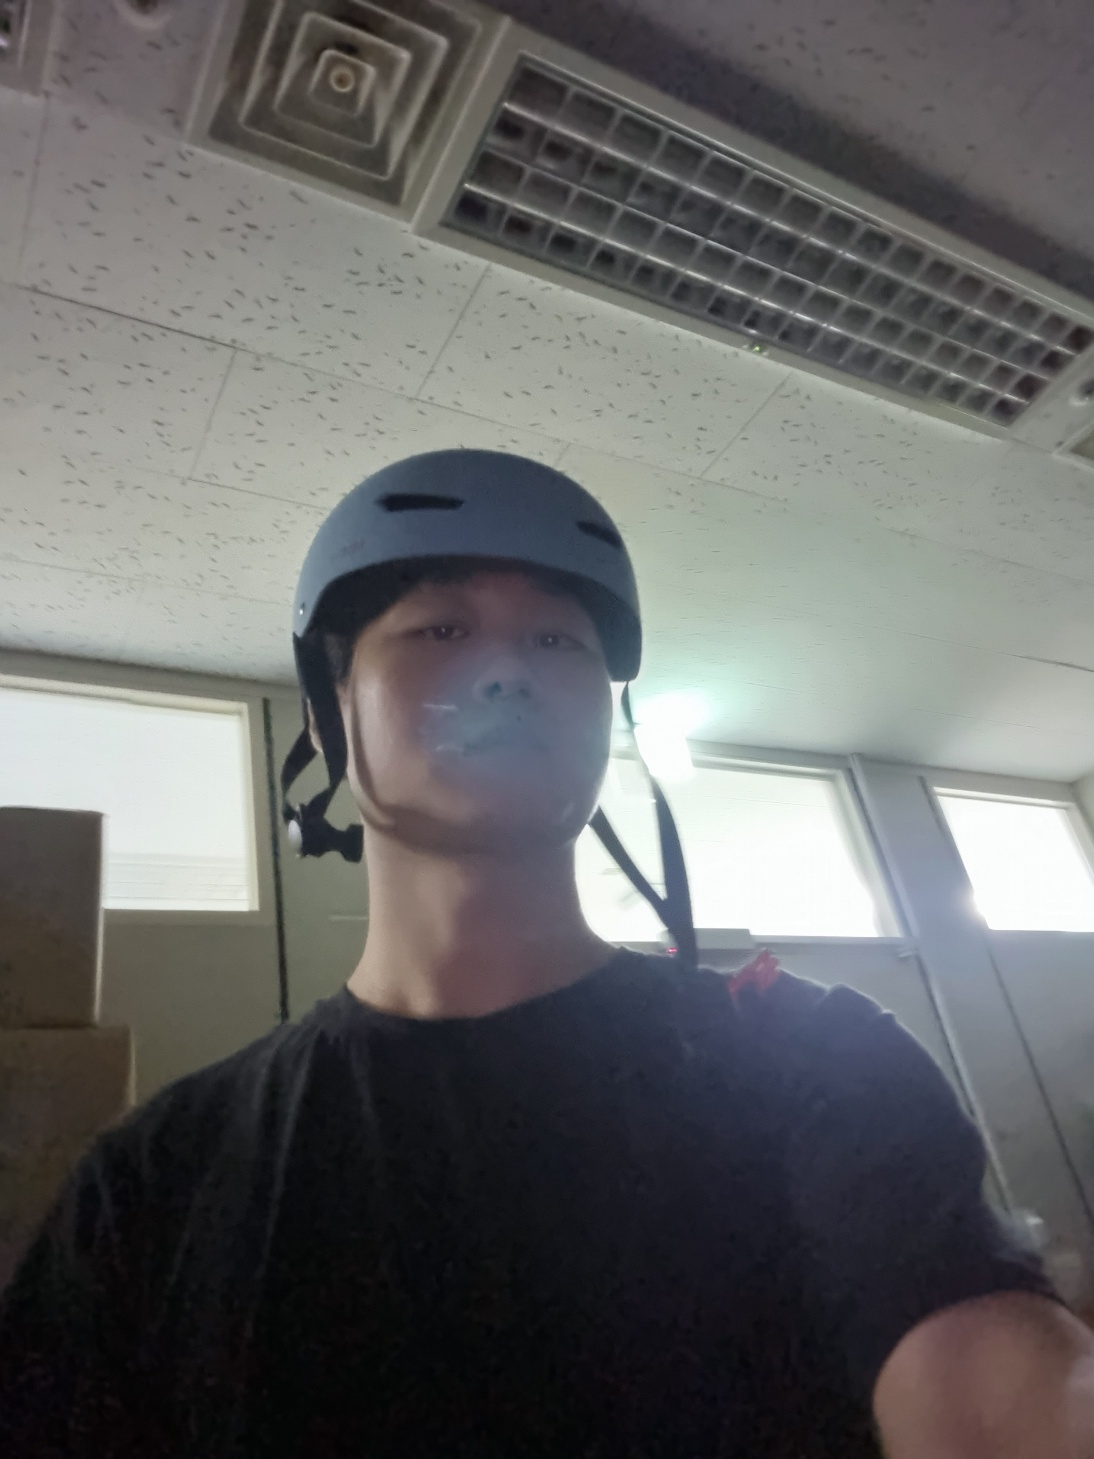Helmet: (260, 410, 706, 894)
